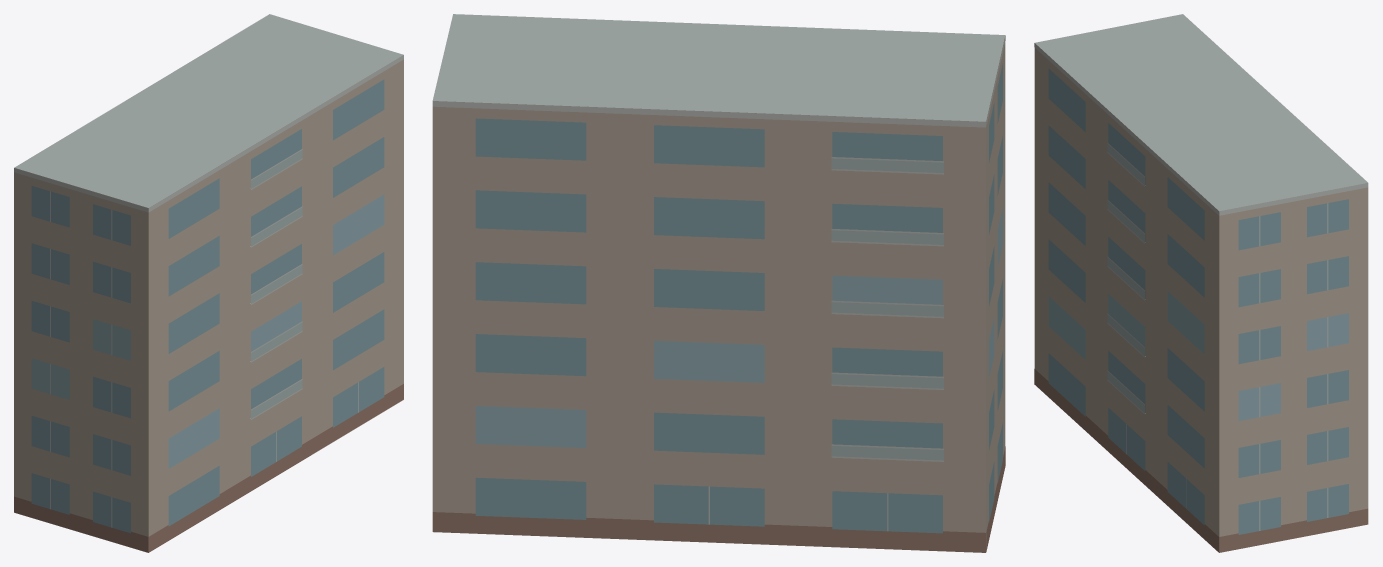
Rendered from survey-upis-32640842.glb.
3 views of the same model, side by side, from view 1: azimuth 30°, elevation 25°; view 2: azimuth 150°, elevation 25°; view 3: azimuth 270°, elevation 25° (orthographic). The views are drawn at different scales.
Parts seen in each view (by area): view 1: survey-upis-32640842.tmp; view 2: survey-upis-32640842.tmp; view 3: survey-upis-32640842.tmp.
Boxes of the visible parts, x1,y1,x2,y2 form: survey-upis-32640842.tmp: [14, 14, 403, 552]; survey-upis-32640842.tmp: [432, 14, 1005, 552]; survey-upis-32640842.tmp: [1034, 14, 1368, 552].
Bounding box in the file's own units: 22.67 × 18.3 × 16.22.
